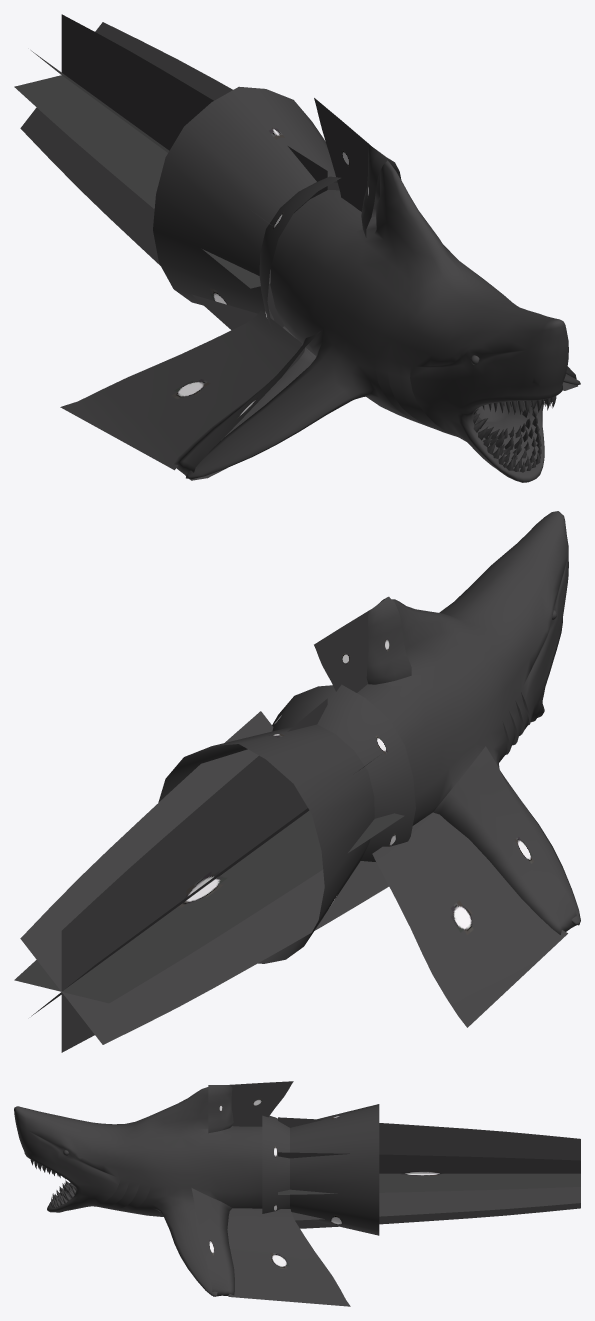
Rendered from Shark.FBX.
3 views of the same model, one above another, from view 1: azimuth 30°, elevation 25°; view 2: azimuth 150°, elevation 25°; view 3: azimuth 270°, elevation 25° (orthographic). The views are drawn at different scales.
Parts seen in each view (by area): view 1: 0001_2ksmeff1_sdd01_body02, 0000_2ksmeff1_sdd01_body01; view 2: 0001_2ksmeff1_sdd01_body02, 0000_2ksmeff1_sdd01_body01; view 3: 0001_2ksmeff1_sdd01_body02, 0000_2ksmeff1_sdd01_body01.
Boxes of the visible parts, x1,y1,x2,y2 form: 0001_2ksmeff1_sdd01_body02: (14, 14, 577, 480); 0000_2ksmeff1_sdd01_body01: (186, 160, 580, 482); 0001_2ksmeff1_sdd01_body02: (14, 596, 576, 1052); 0000_2ksmeff1_sdd01_body01: (357, 511, 580, 925); 0001_2ksmeff1_sdd01_body02: (191, 1081, 580, 1306); 0000_2ksmeff1_sdd01_body01: (14, 1087, 262, 1296).
Bounding box in the file's own units: 1036 × 2193 × 721.
